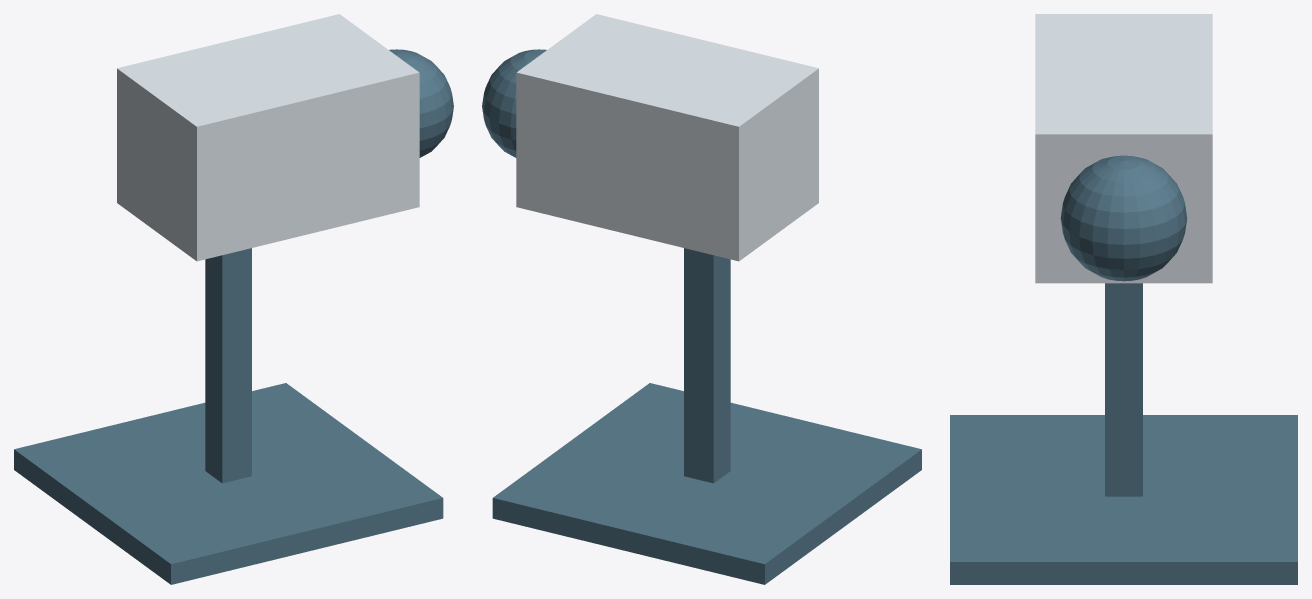
Rendered from camera.gltf.
3 views of the same model, side by side, from view 1: azimuth 30°, elevation 25°; view 2: azimuth 150°, elevation 25°; view 3: azimuth 270°, elevation 25° (orthographic). The views are drawn at different scales.
Bounding box in the file's own units: 0.715 × 0.8 × 0.55.
